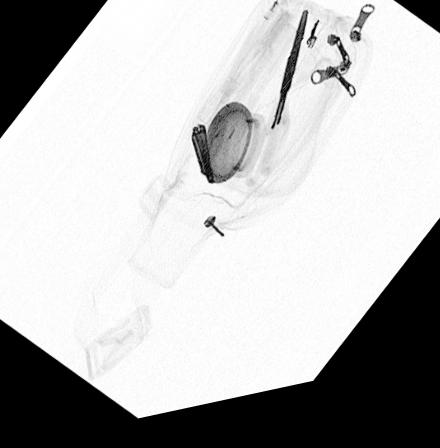Scissors: (240, 25, 309, 201)
